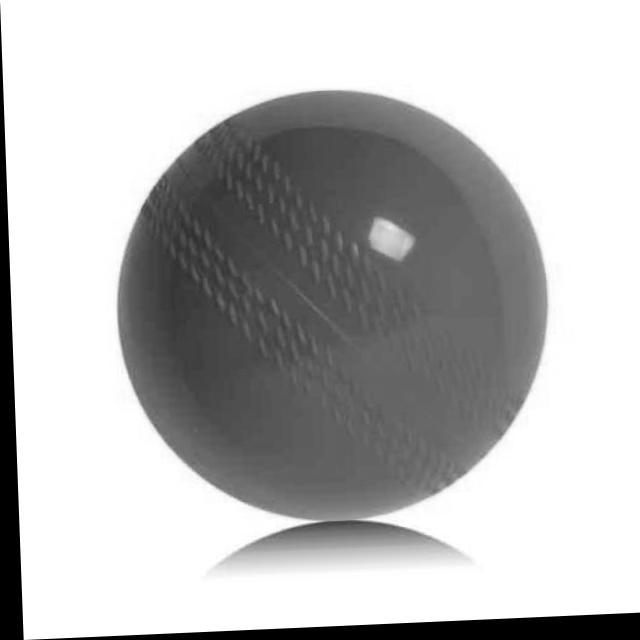cricket ball: (114, 93, 546, 524)
